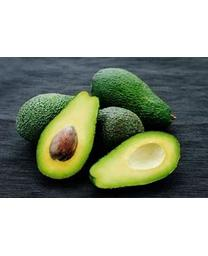avocado: (35, 89, 109, 180), (89, 129, 184, 188), (89, 66, 178, 126)
